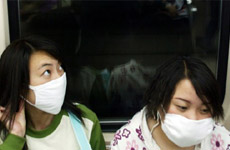face_mask: (163, 82, 213, 148), (25, 50, 67, 114)
